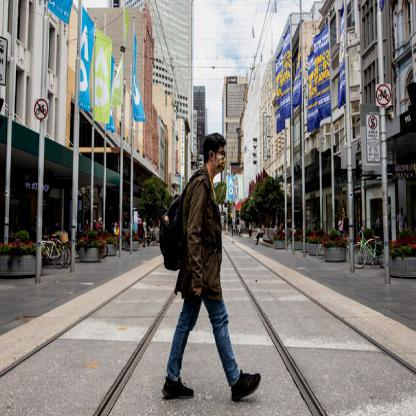person: (157, 132, 254, 402)
